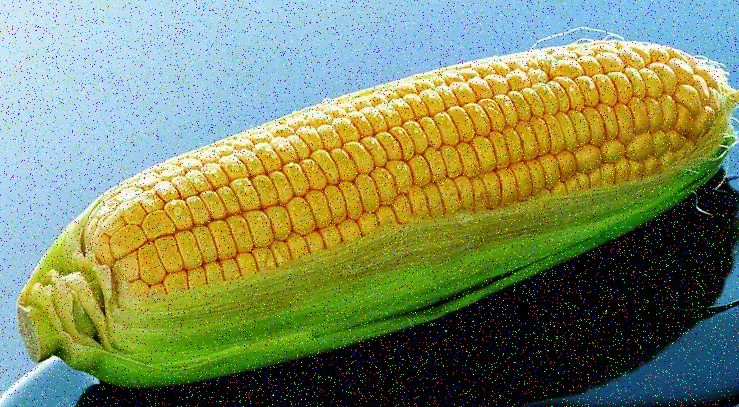corn: (23, 31, 728, 395)
